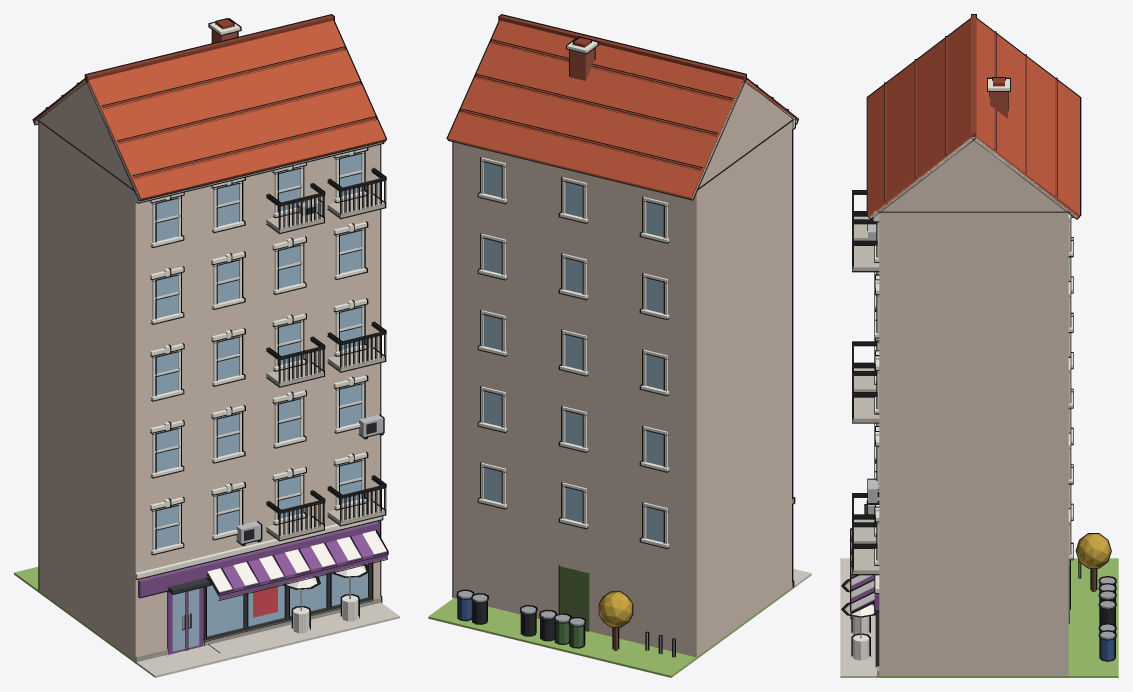
Rendered from Blok_duz_6k_3.fbx.
The picture shows the model from 3 angles, left to right: view 1: azimuth 30°, elevation 25°; view 2: azimuth 150°, elevation 25°; view 3: azimuth 270°, elevation 25°; orthographic projection.
Visible parts, largest first — view 1: Blok_duz_6k_3; view 2: Blok_duz_6k_3; view 3: Blok_duz_6k_3.
Part boxes in pixels (x1=…): Blok_duz_6k_3: x1=14, y1=14, x2=399, y2=677; Blok_duz_6k_3: x1=428, y1=14, x2=811, y2=677; Blok_duz_6k_3: x1=840, y1=14, x2=1118, y2=677.
Size of the model in its own units: 10.14 by 21.96 by 10.
